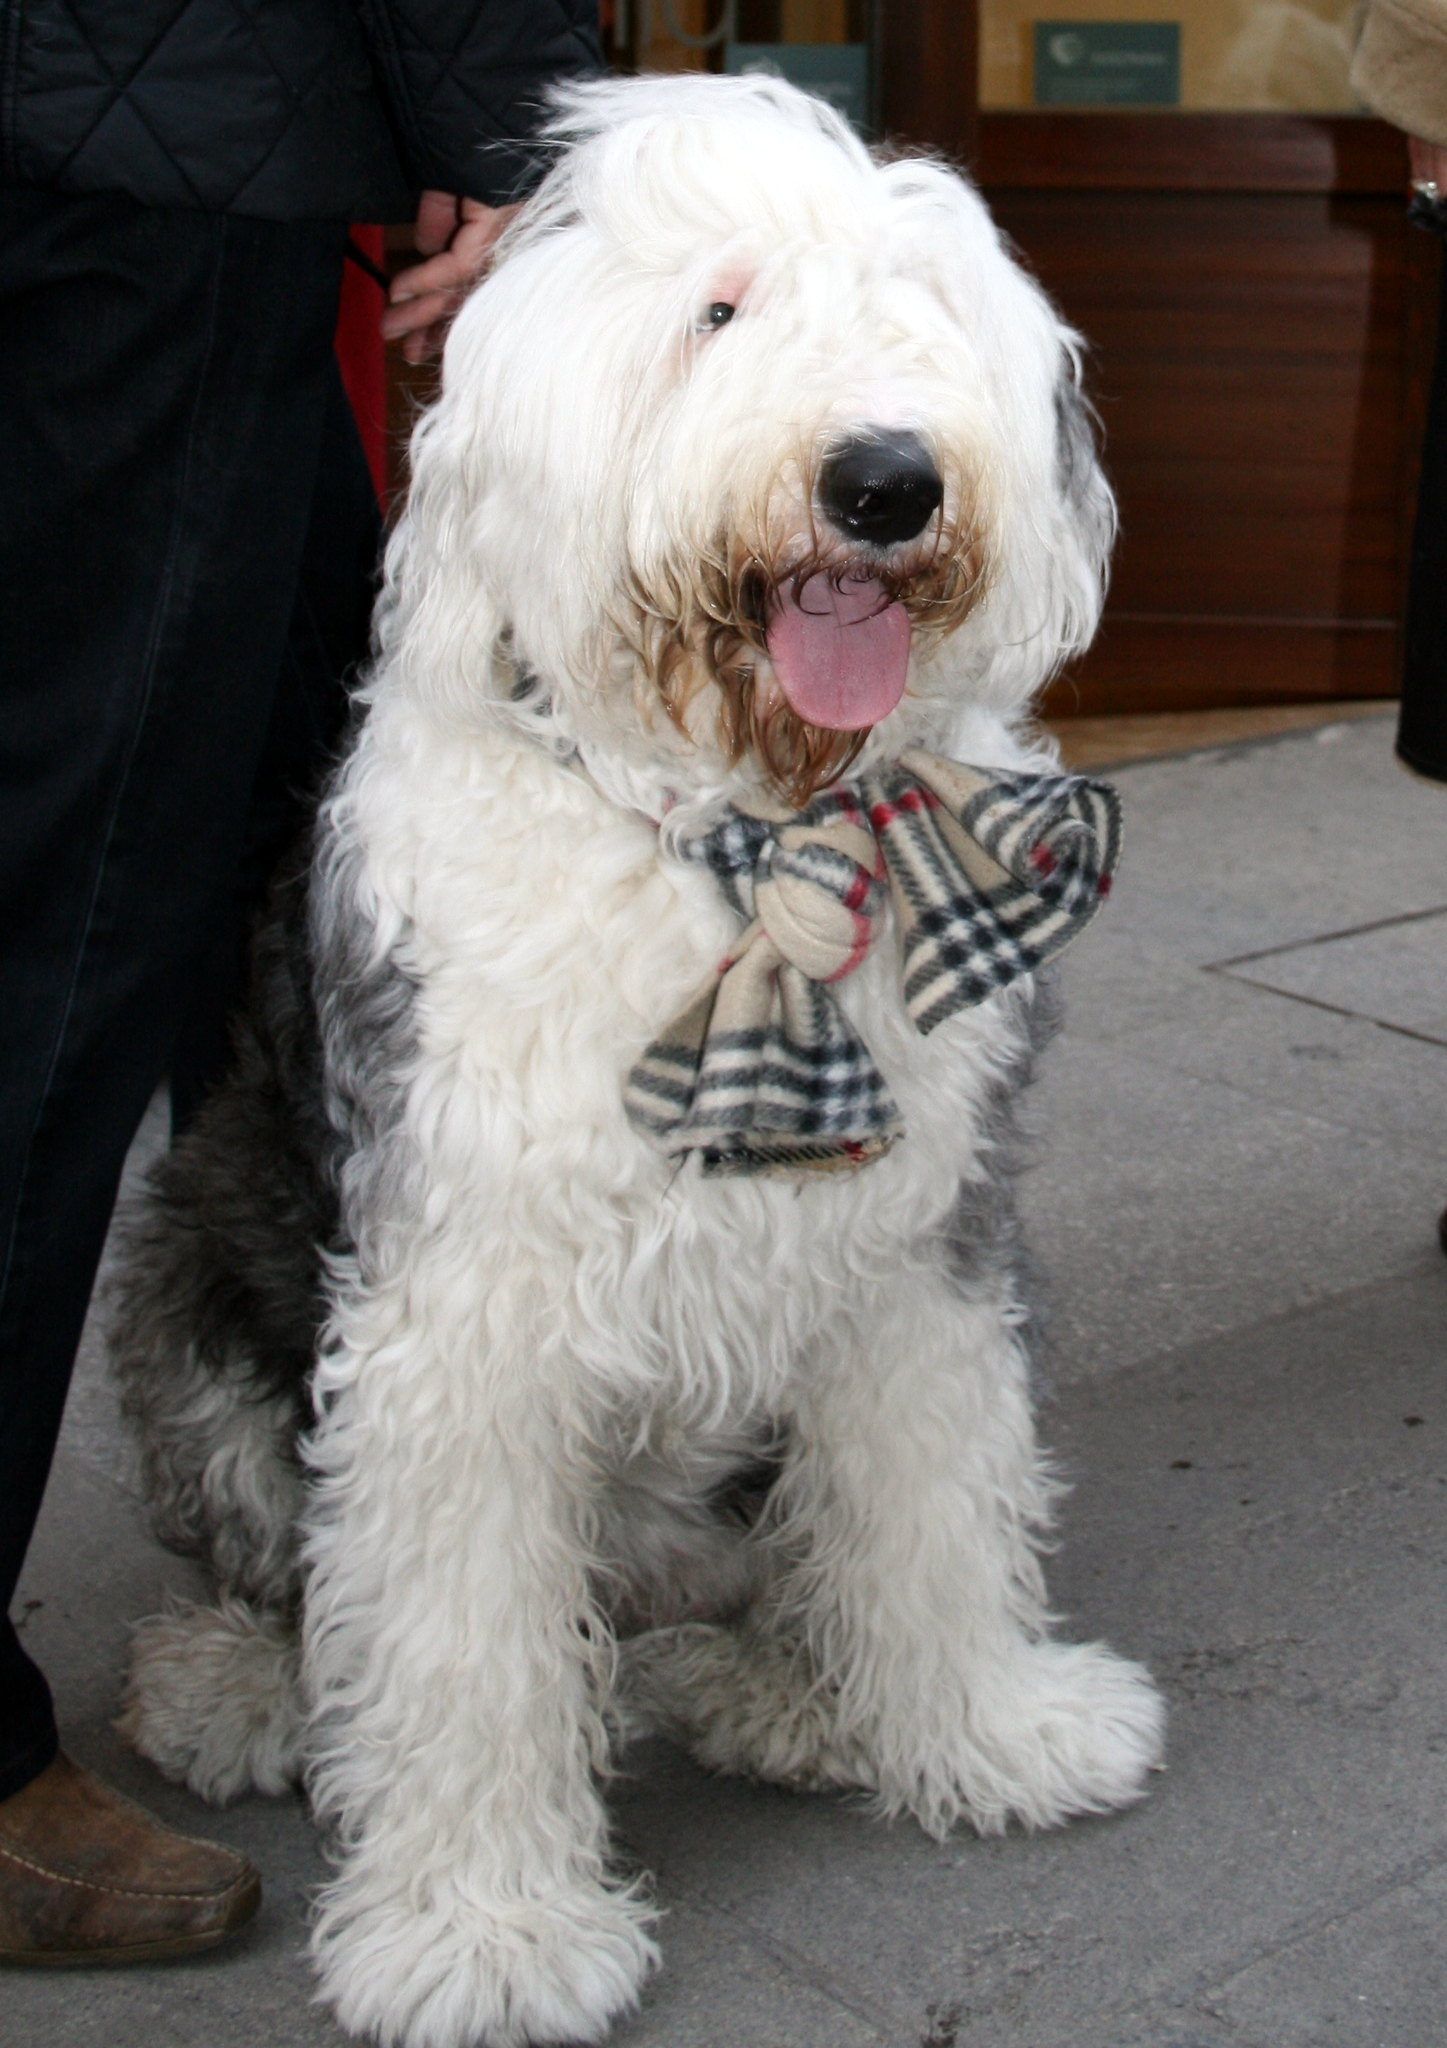dog: (102, 64, 1104, 2026)
